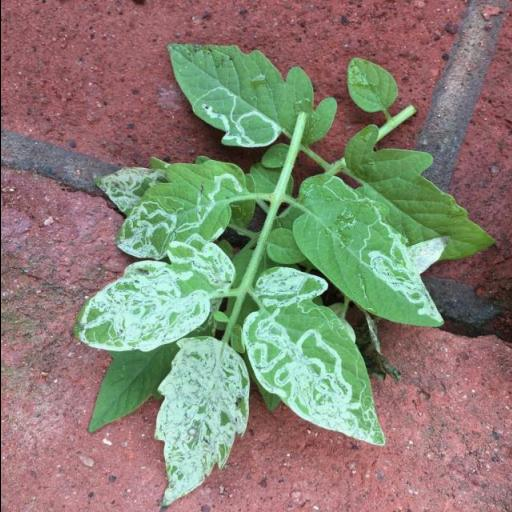Leaf Miner: (236, 266, 387, 446), (292, 178, 445, 328), (70, 239, 234, 357), (168, 44, 336, 154), (152, 335, 249, 511), (118, 158, 252, 258)
